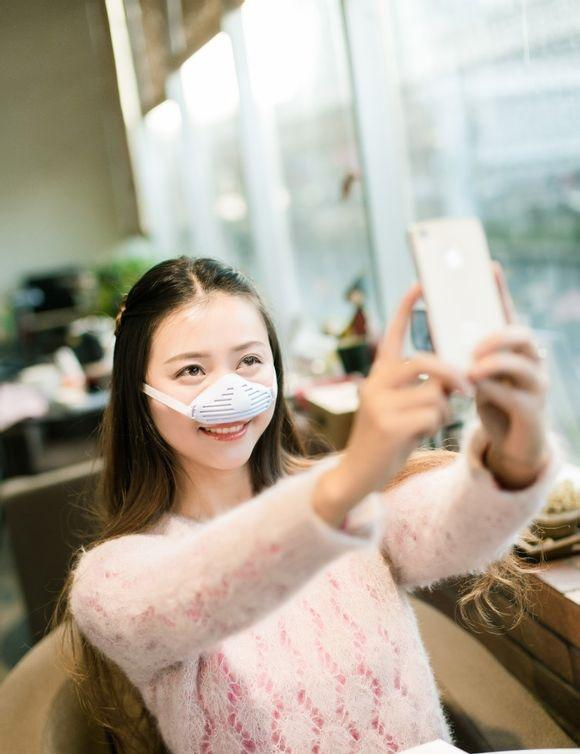WRONG: (164, 337, 285, 458)
